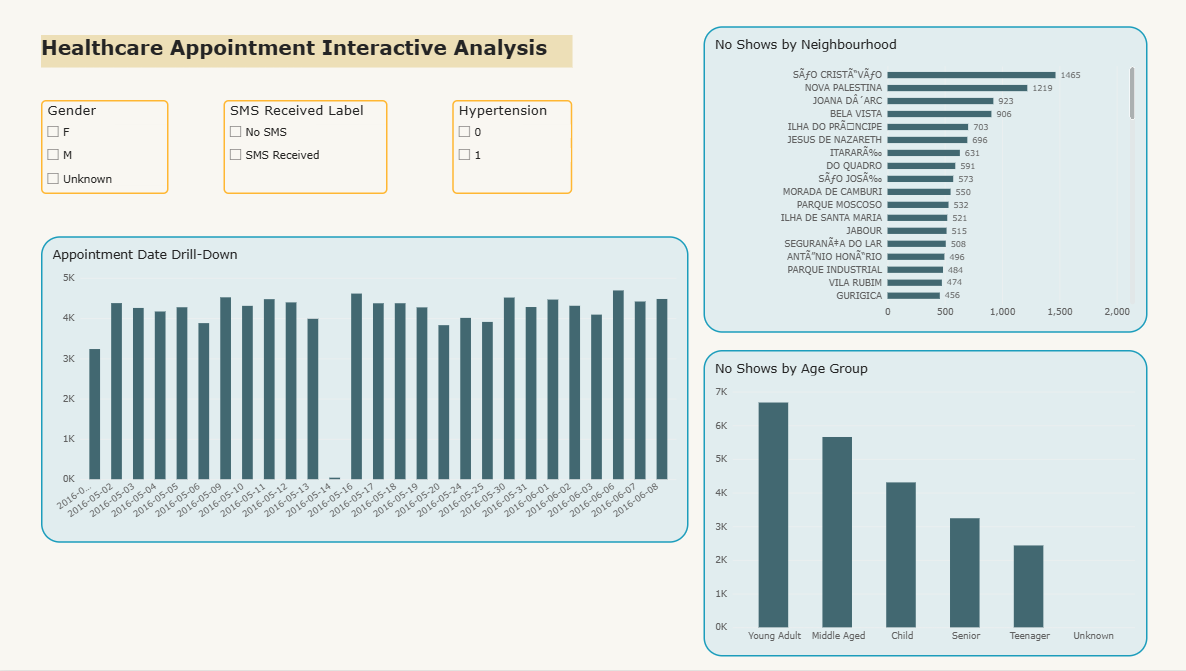

Layout of this report page (visuals, bound fields, positions):
{"tool":"powerbi","page":{"name":"Interactive Analysis","canvas":[1920,1080],"ordinal":2},"visuals":[{"type":"textbox","box":[72,64,850,52],"z":0},{"type":"clusteredColumnChart","title":"Appointment Date Drill-Down","fields":{"Category":["Appointment Date.Calendar.Year Number","Appointment Date.Calendar.Quarter Name","Appointment Date.Calendar.Month Name","Appointment Date.Calendar.Full Date"],"Y":["Fact Appointment.Appointment Count"]},"box":[72,386,1036,490],"z":1000},{"type":"clusteredBarChart","title":"No Shows by Neighbourhood","fields":{"Category":["Dim Location.Neighbourhood"],"Y":["Fact Appointment.No Show Count"]},"box":[1132,50,710,490],"z":2000},{"type":"slicer","fields":{"Values":["Dim Patient.Gender"]},"box":[72,168,204,150],"z":3000},{"type":"slicer","fields":{"Values":["Dim SMS Received.SMS Received Label"]},"box":[364,168,262,150],"z":4000},{"type":"slicer","fields":{"Values":["Dim Health Profile.Hypertension"]},"box":[730,168,192,150],"z":5000},{"type":"clusteredColumnChart","title":"No Shows by Age Group","fields":{"Category":["Dim Patient.Age Group"],"Y":["Fact Appointment.No Show Count"]},"box":[1132,568,710,490],"z":6000}]}

Visuals, with their boxes in screenshot pixels (x1, y1, x2, y2), scaled from the page's 1920x1080 canvas onto the 1186x671 screenshot:
textbox: (44,40,570,72)
"Appointment Date Drill-Down" clusteredColumnChart: (44,240,684,544)
"No Shows by Neighbourhood" clusteredBarChart: (699,31,1138,336)
slicer - Dim Patient.Gender: (44,104,170,198)
slicer - Dim SMS Received.SMS Received Label: (225,104,387,198)
slicer - Dim Health Profile.Hypertension: (451,104,570,198)
"No Shows by Age Group" clusteredColumnChart: (699,353,1138,657)
